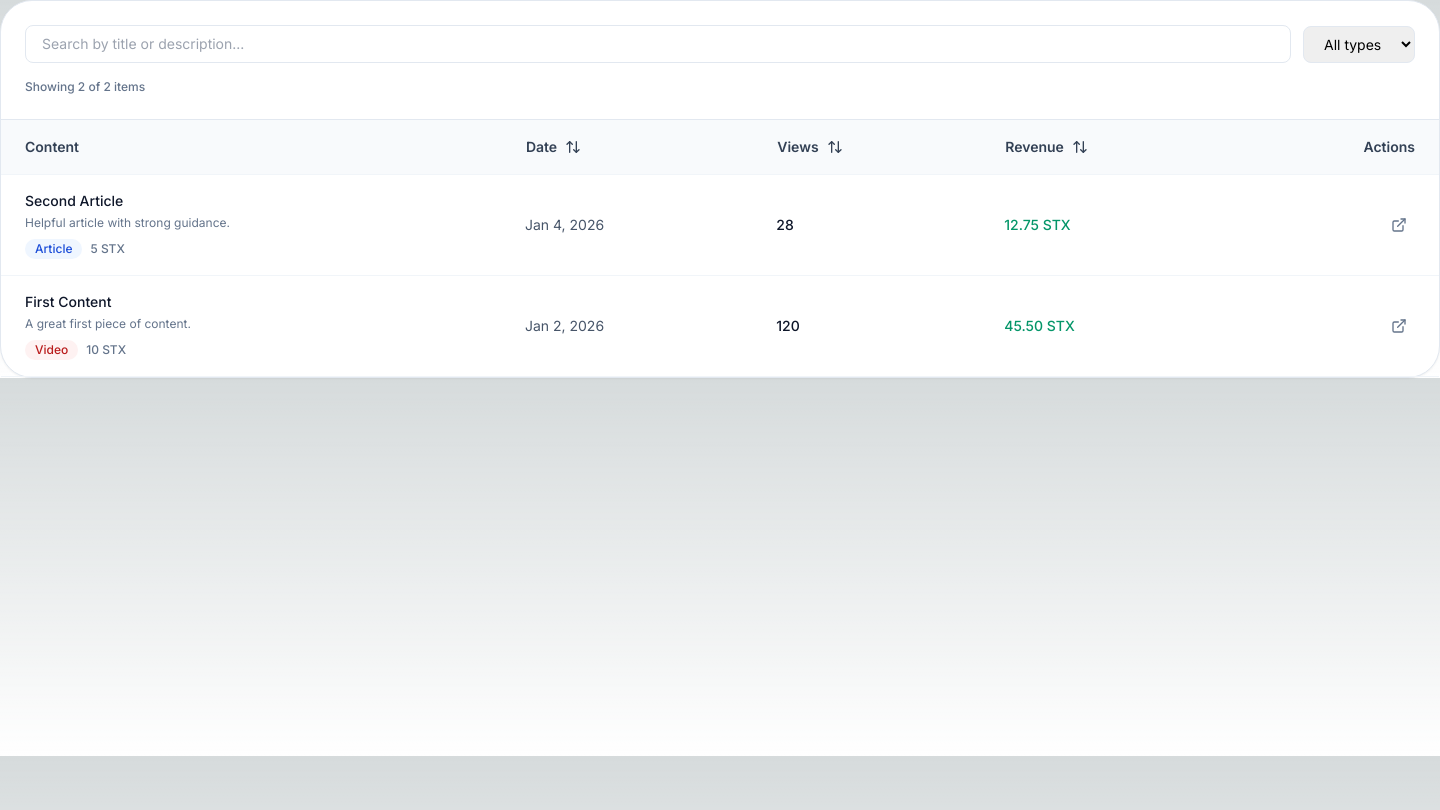
Test: ContentBrowser › filters content by type selection
Step 1. Select "Article" in the dropdown named "filter content type" → (1359, 44), box [1303, 26, 1415, 62]
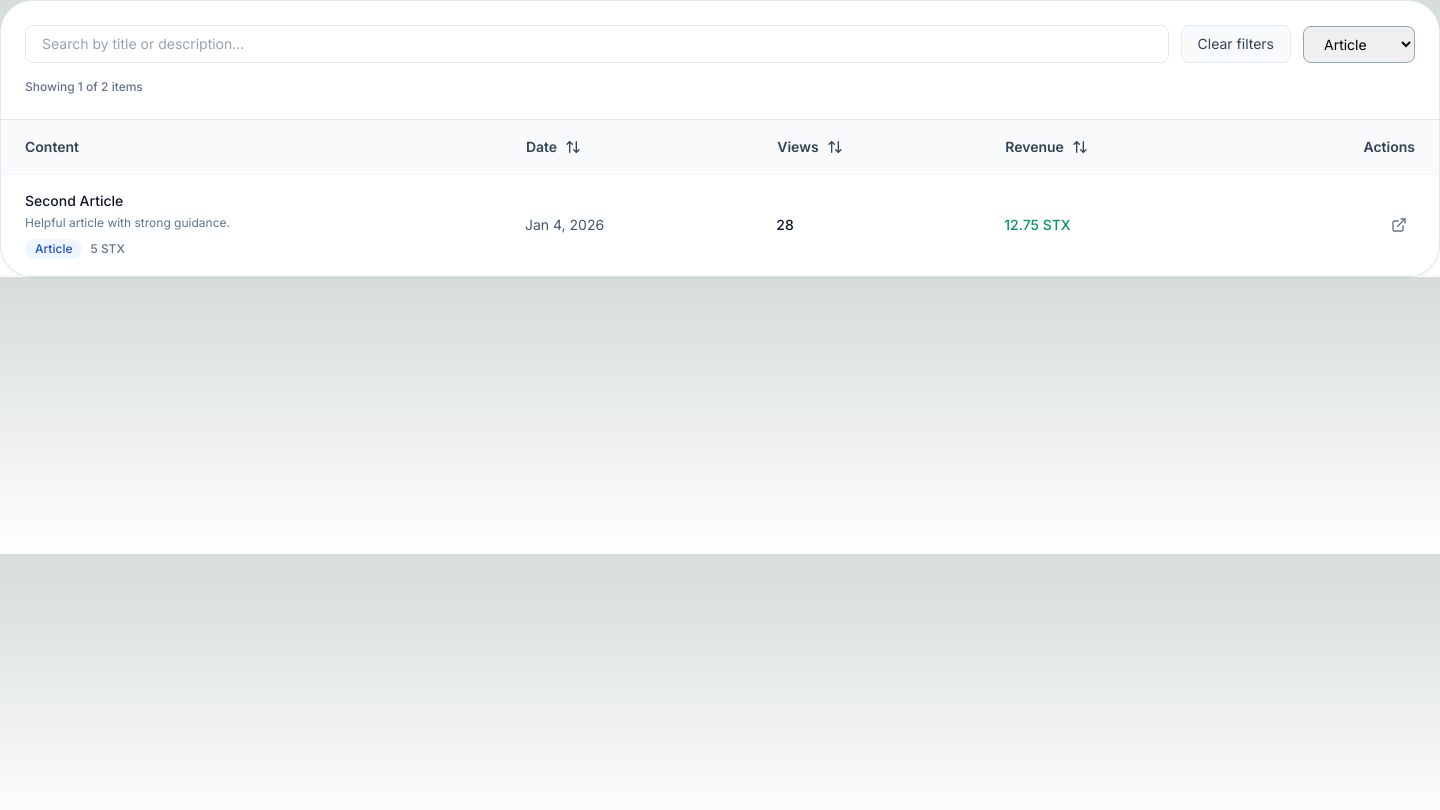
Expected: the text "Second Article" is shown, [25, 192, 123, 209]
Expected: the text "Showing 1 of 2 items" is shown, [25, 79, 143, 94]
Expected: the text "First Content" is gone
